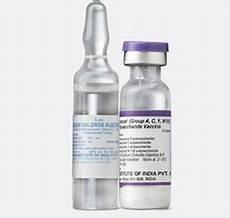Syringe: (117, 38, 178, 215), (70, 0, 120, 214)
